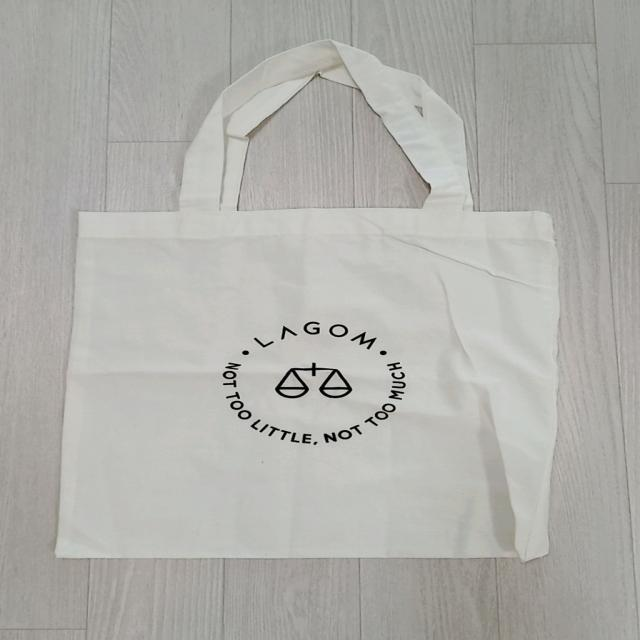ecobag: (43, 60, 590, 575)
